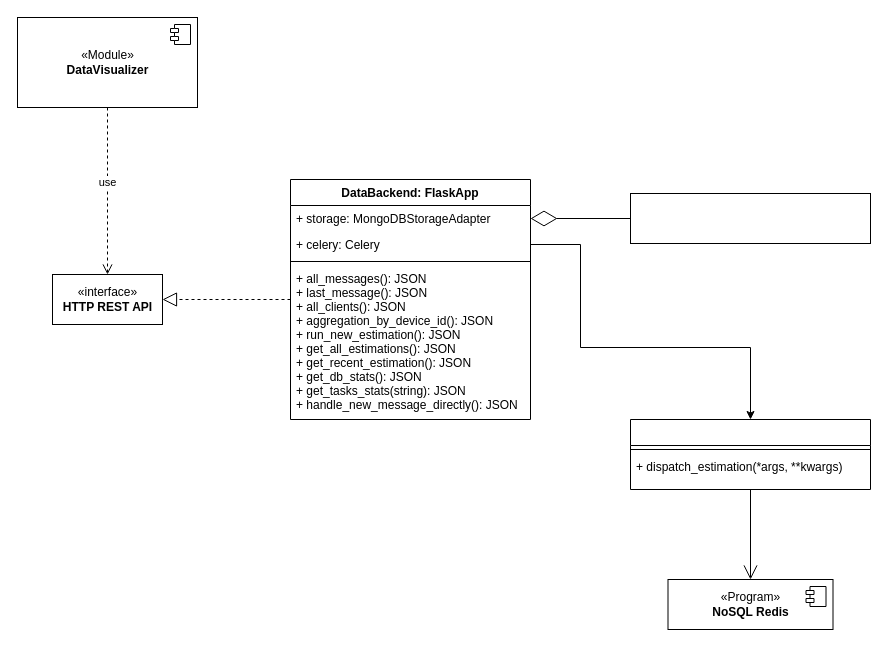
Image size: 888x647. Some labels were removed from this diagram. The box of each missing label's shape, as (x1, y1, x2, y2) in pixels:
CeleryWorker: tasks: (630, 418, 870, 490)
«interface» AbstractStorageInterface: (630, 192, 870, 244)
